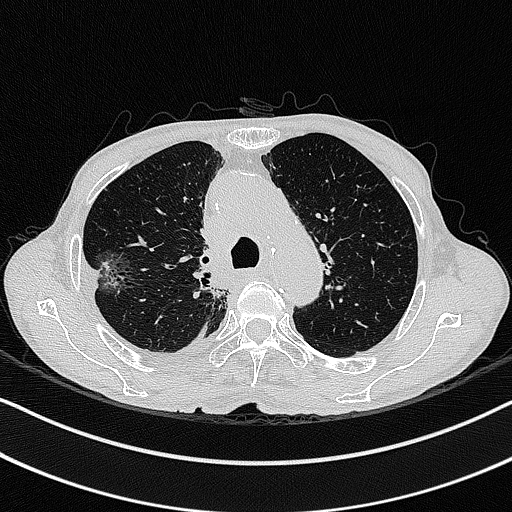nodule: (95, 251, 132, 293)
